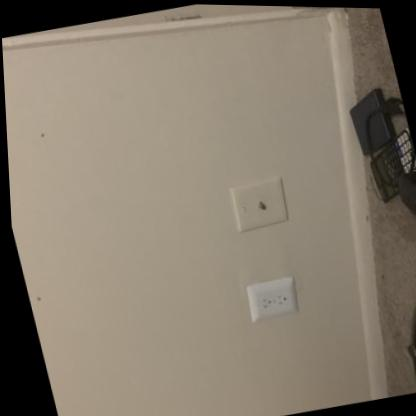OUTLET: (242, 274, 301, 323)
